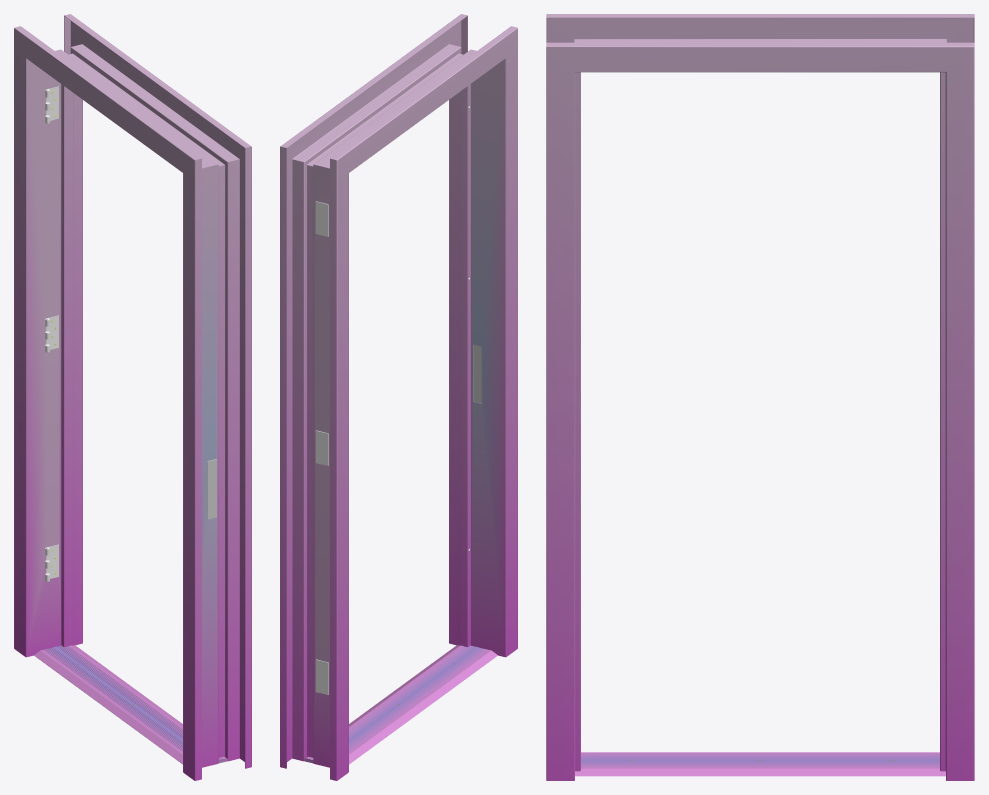
Rendered from Kit_DoorFrame_Steel_Alu.fbx.
3 renders of one model, left to right at view 1: azimuth 30°, elevation 25°; view 2: azimuth 150°, elevation 25°; view 3: azimuth 270°, elevation 25°, orthographic. The views are drawn at different scales.
Visible parts, largest first — view 1: Kit_DoorFrame_Steel_LOD0; view 2: Kit_DoorFrame_Steel_LOD0; view 3: Kit_DoorFrame_Steel_LOD0.
Part boxes in pixels (box(x1,y1,x2,y2)): Kit_DoorFrame_Steel_LOD0: box(14, 14, 251, 780); Kit_DoorFrame_Steel_LOD0: box(280, 14, 517, 780); Kit_DoorFrame_Steel_LOD0: box(546, 14, 974, 780).
Size of what is drawn, in the model's own units: 0.21 by 2.17 by 1.15.
